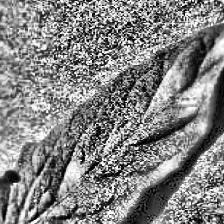Anthracnose Fruit Rot: (146, 69, 184, 113), (171, 81, 215, 118), (53, 160, 90, 189)
